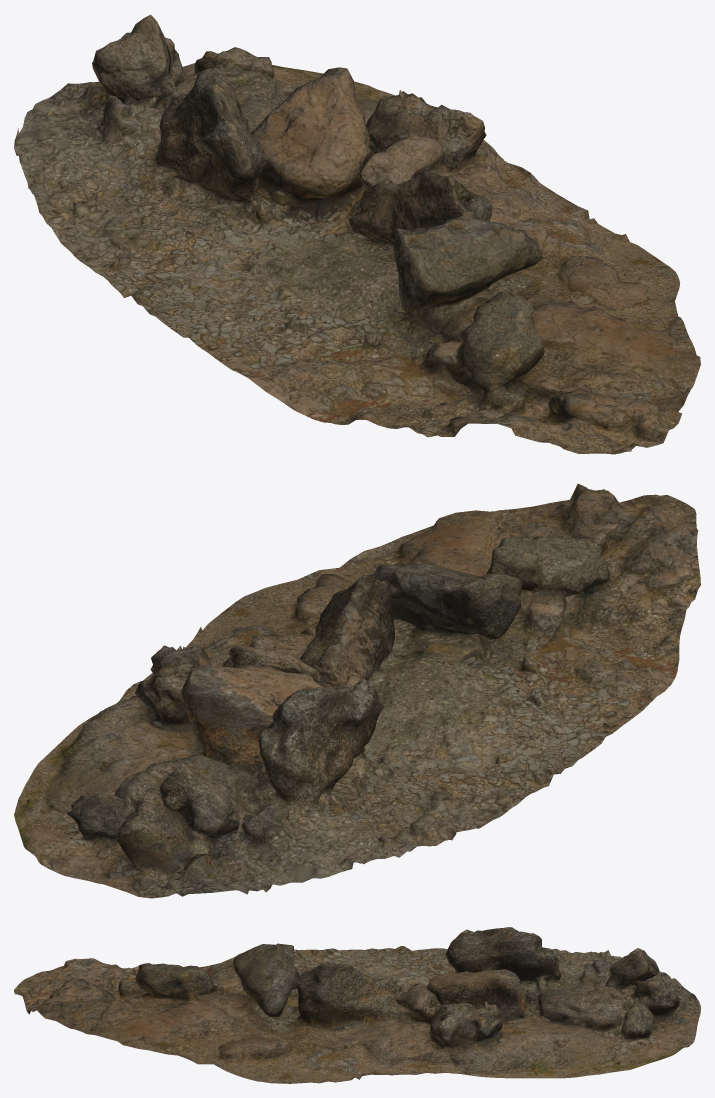
3 views of the same model, one above another, from view 1: azimuth 30°, elevation 25°; view 2: azimuth 150°, elevation 25°; view 3: azimuth 270°, elevation 25° (orthographic). The views are drawn at different scales.
Visible parts, largest first — view 1: coast_land_rocks_02_lod0; view 2: coast_land_rocks_02_lod0; view 3: coast_land_rocks_02_lod0.
Part boxes in pixels (bbox=[...]): coast_land_rocks_02_lod0: bbox=[14, 14, 700, 454]; coast_land_rocks_02_lod0: bbox=[14, 483, 700, 898]; coast_land_rocks_02_lod0: bbox=[14, 927, 700, 1083].
Bounding box in the file's own units: 4.88 × 1.37 × 10.44.
1 material, 1 textured.
